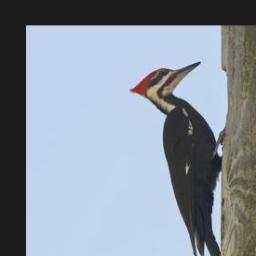Woodpecker: (127, 59, 224, 256)
